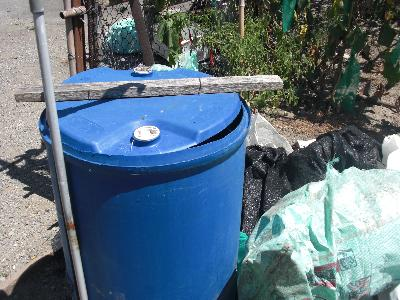bucket: (36, 64, 253, 300)
plastic_bag: (238, 171, 400, 298), (244, 128, 380, 183)
